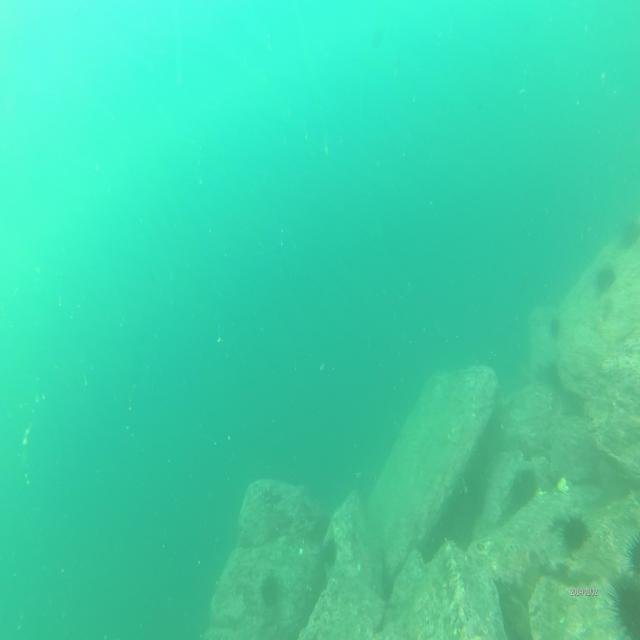echinus: (603, 562, 640, 640), (557, 508, 589, 558), (514, 468, 538, 508), (619, 214, 640, 253), (259, 572, 279, 610), (625, 525, 640, 573), (320, 536, 340, 568), (599, 264, 615, 296), (314, 513, 332, 541), (549, 312, 562, 340)
